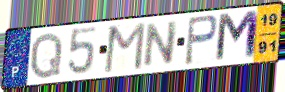5: (66, 25, 98, 78)
M: (213, 9, 261, 65), (102, 21, 148, 75)
N: (141, 19, 181, 70)
P: (183, 13, 220, 66)
Q: (28, 30, 65, 81)
